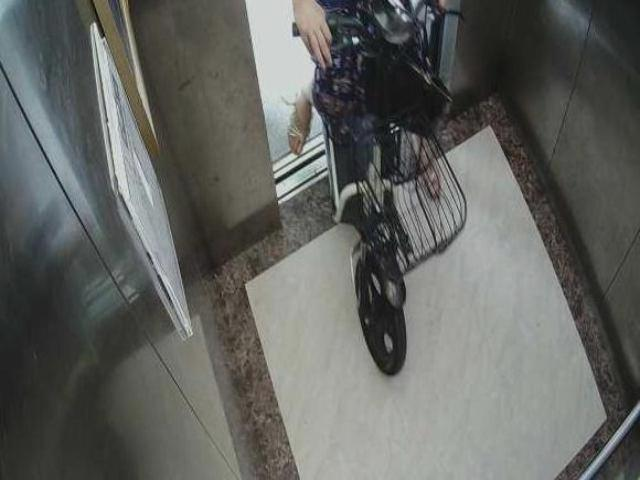emotor: (294, 6, 451, 370)
